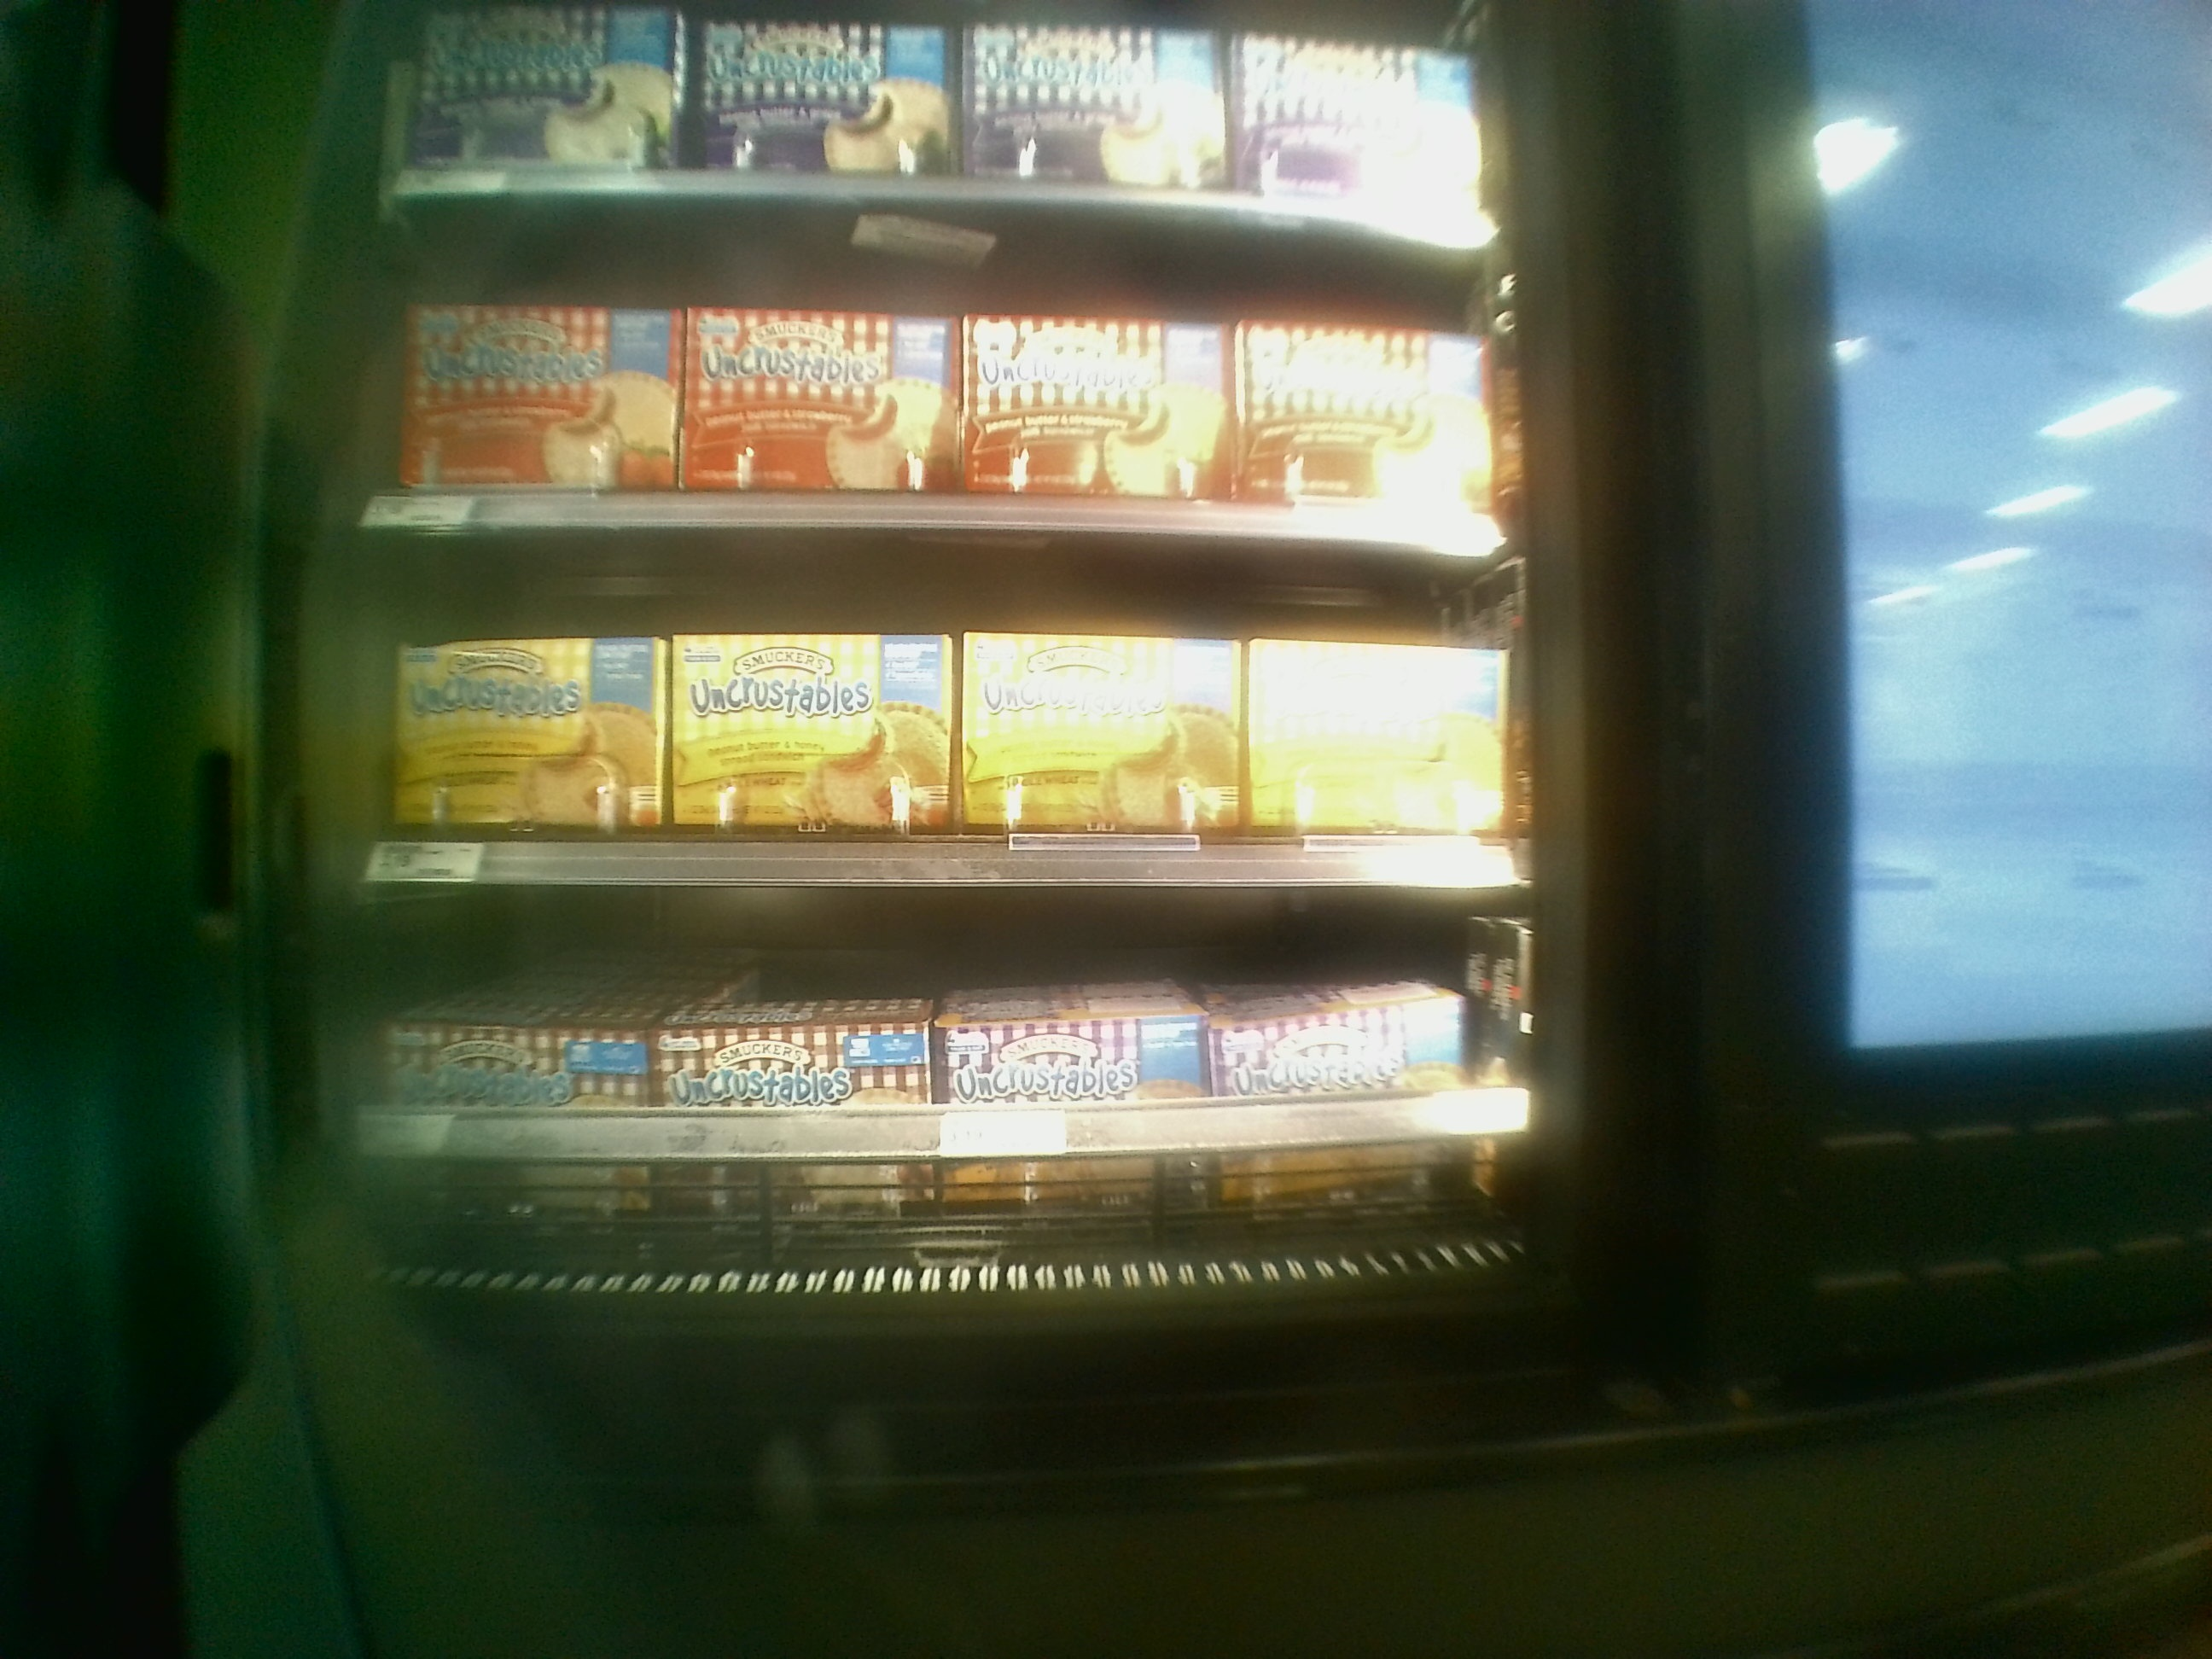shelf: (319, 843, 1522, 1300), (333, 514, 1507, 882), (359, 193, 1508, 542)
